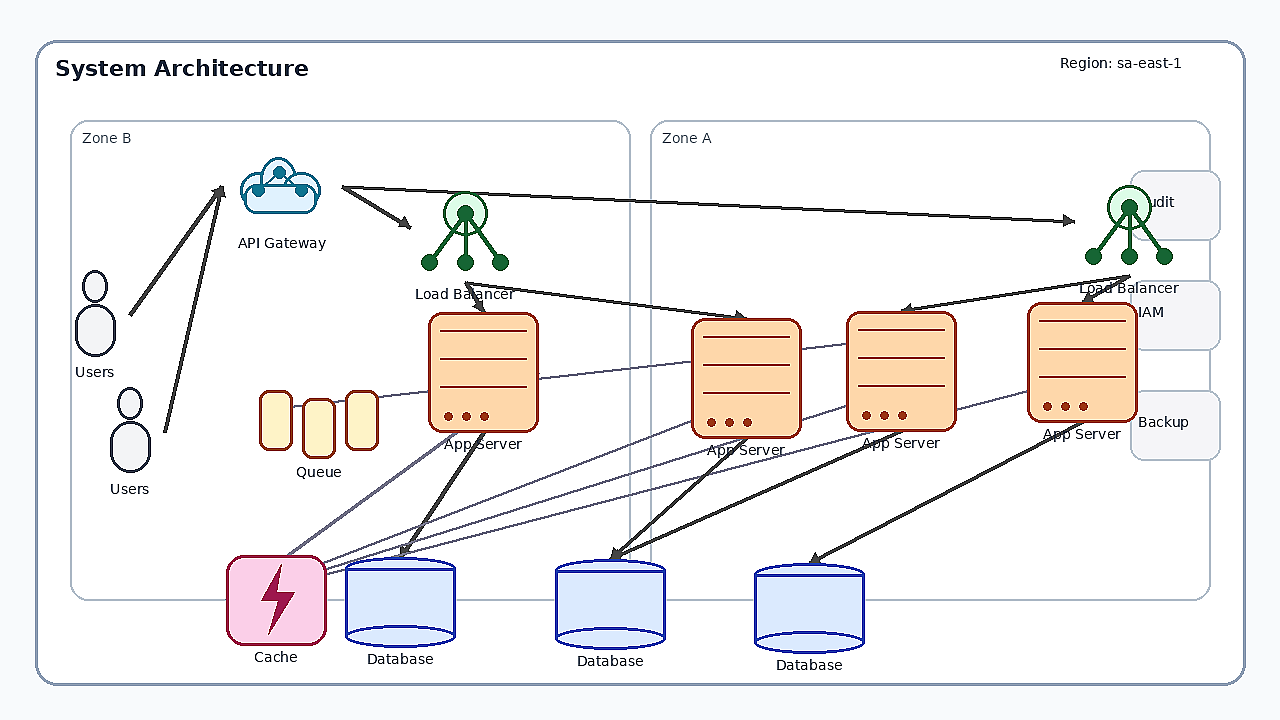API Gateway: (222, 141, 342, 231)
Application Server: (428, 312, 538, 432), (846, 311, 956, 431), (1027, 302, 1137, 422), (691, 318, 801, 438)
Cache: (226, 555, 326, 645)
Database: (345, 557, 455, 647), (555, 559, 665, 649), (754, 563, 864, 653)
Load Balancer: (410, 172, 520, 282), (1074, 166, 1184, 276)
Message Queue: (259, 390, 379, 460)
User: (60, 270, 130, 360), (95, 387, 165, 477)
